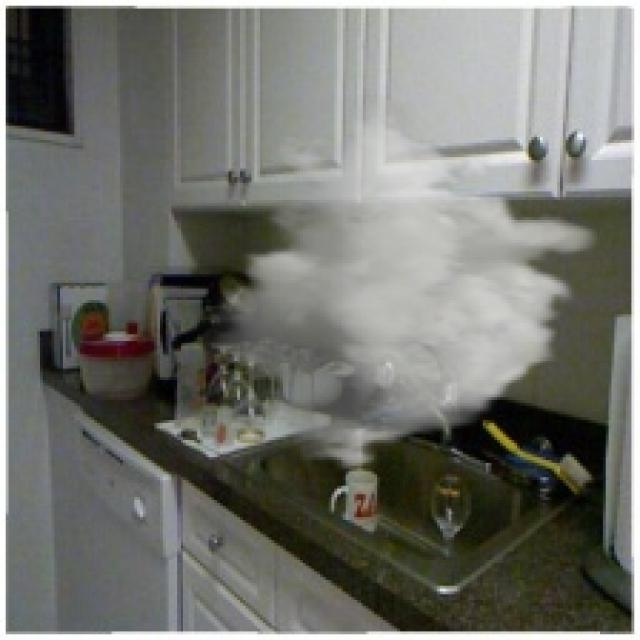smoke: (200, 94, 603, 472)
